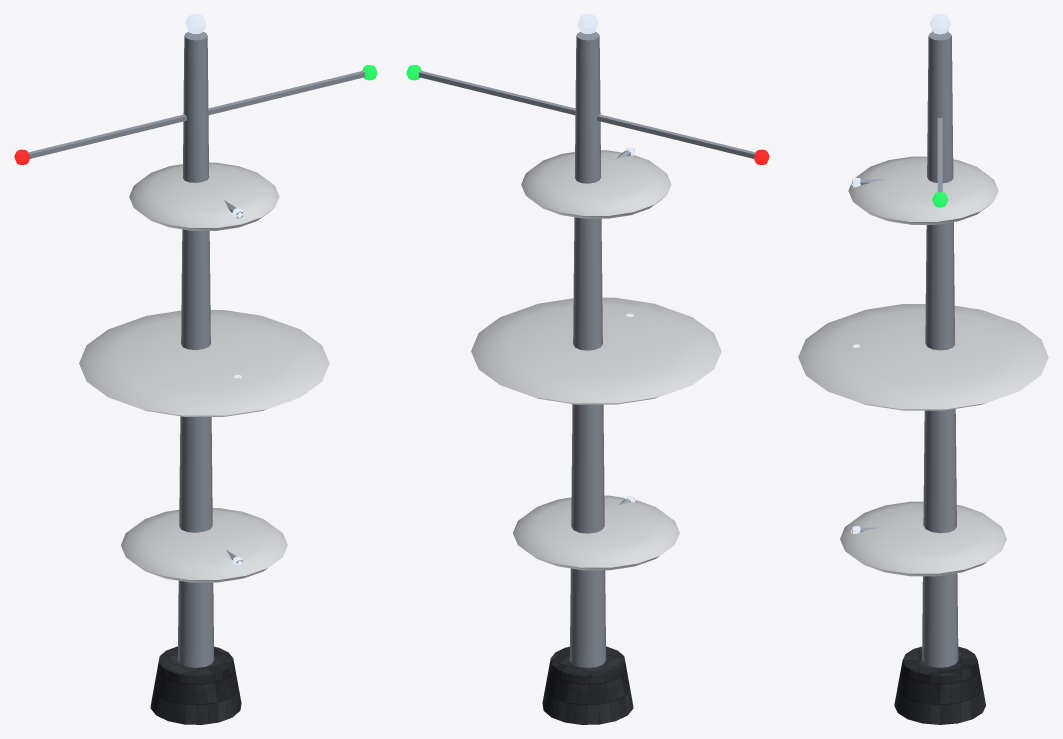
Rendered from arch_mast.glb.
The picture shows the model from 3 angles, left to right: view 1: azimuth 30°, elevation 25°; view 2: azimuth 150°, elevation 25°; view 3: azimuth 270°, elevation 25°; orthographic projection.
Visible parts, largest first — view 1: arch_mast; view 2: arch_mast; view 3: arch_mast.
Boxes of the visible parts, bbox=[...] form: arch_mast: bbox=[14, 14, 377, 724]; arch_mast: bbox=[406, 14, 769, 724]; arch_mast: bbox=[798, 14, 1048, 724].
Bounding box in the file's own units: 5 × 9.13 × 3.
6 materials, 1 textured.
